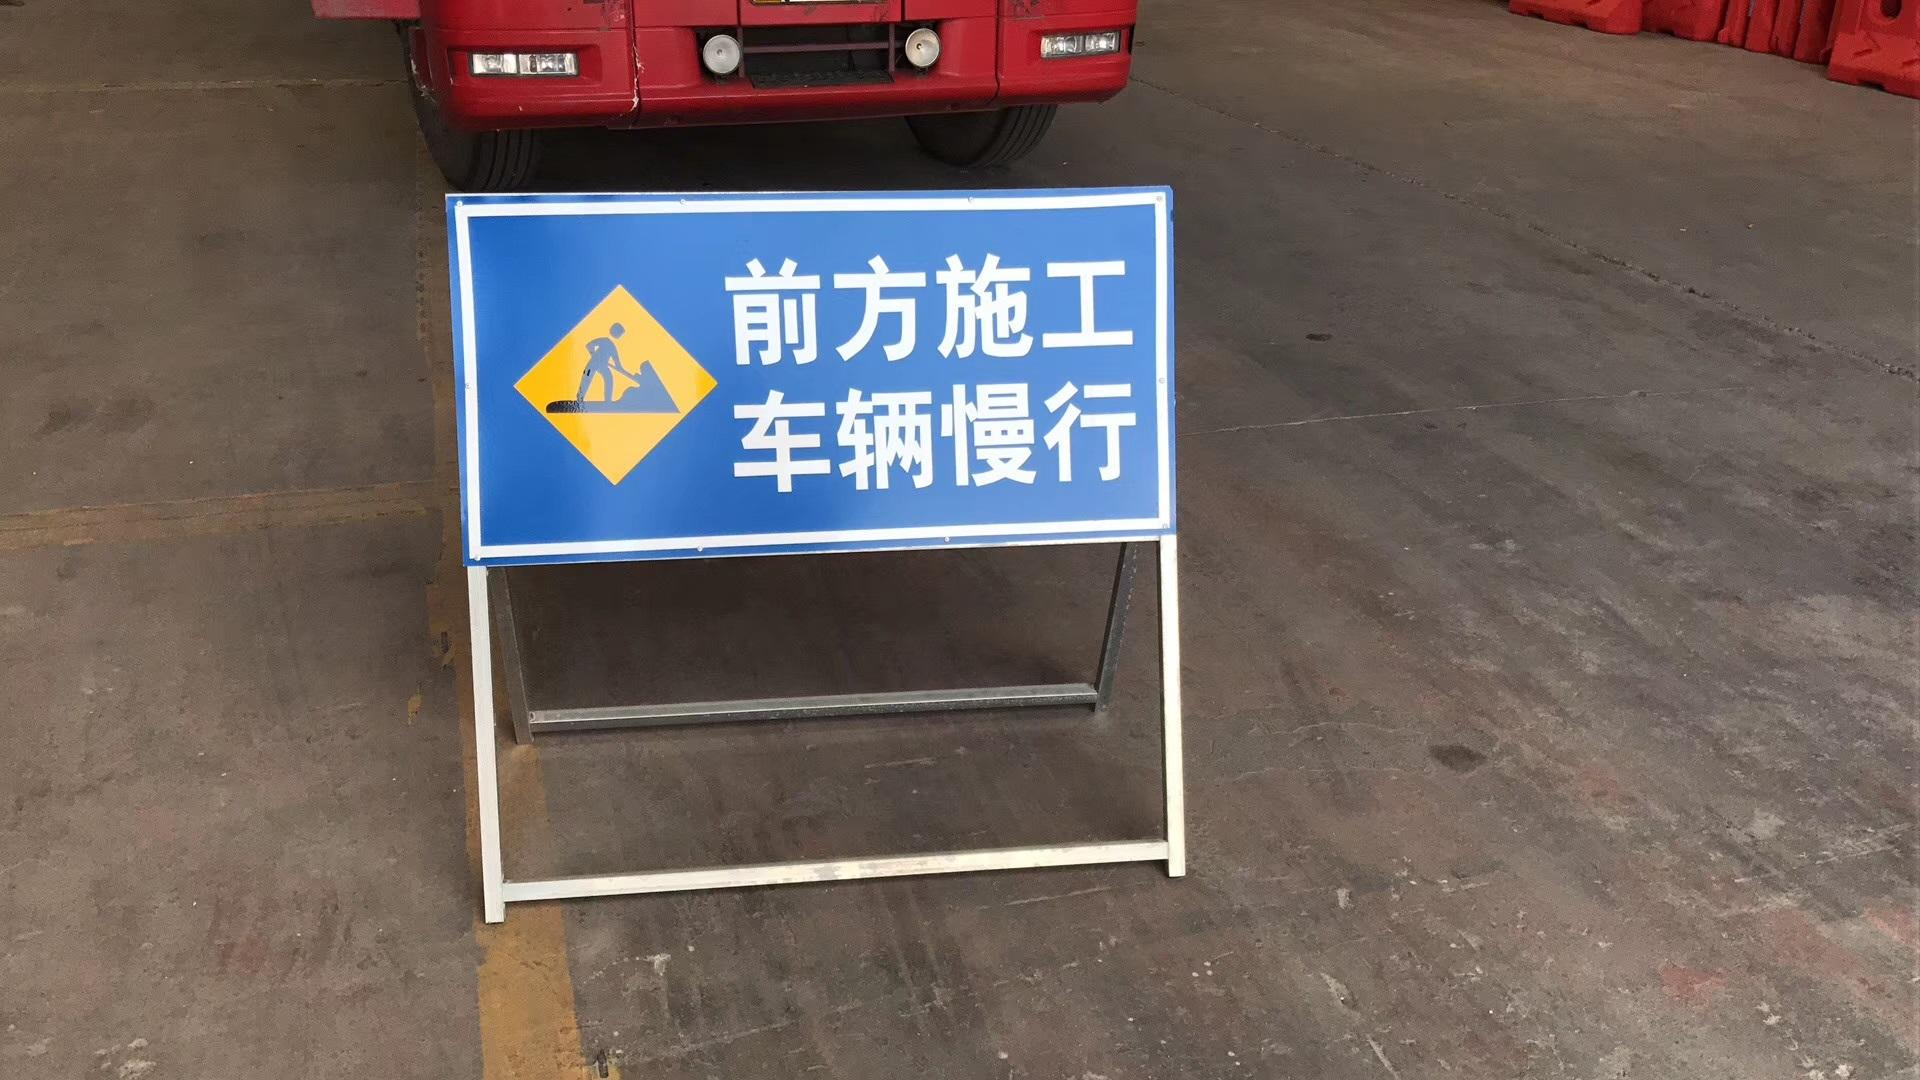sign: (454, 204, 1164, 542)
